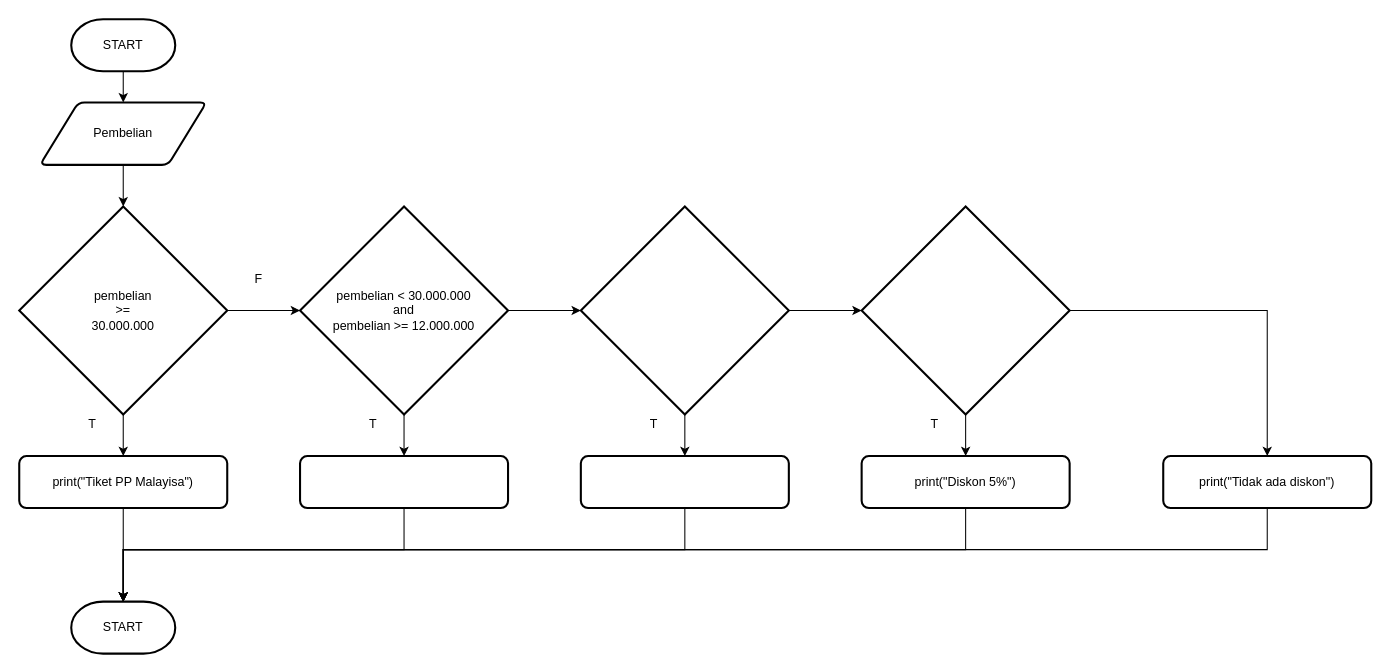
Some shapes in this 1389 by 672 pixel diagram are drawn without their labels. Here are the shapes that lost their labels. From the top down, the box of each, then its label:
(579, 205, 789, 415): pembelian < 12.000.000 and pembelian >= 6.000.000
(860, 205, 1070, 415): pembelian < 6.000.000 and pembelian >= 2.000.000
(298, 454, 509, 509): print("Tiket ke Mataram")
(579, 454, 789, 509): print("Tiket ke Bali")
